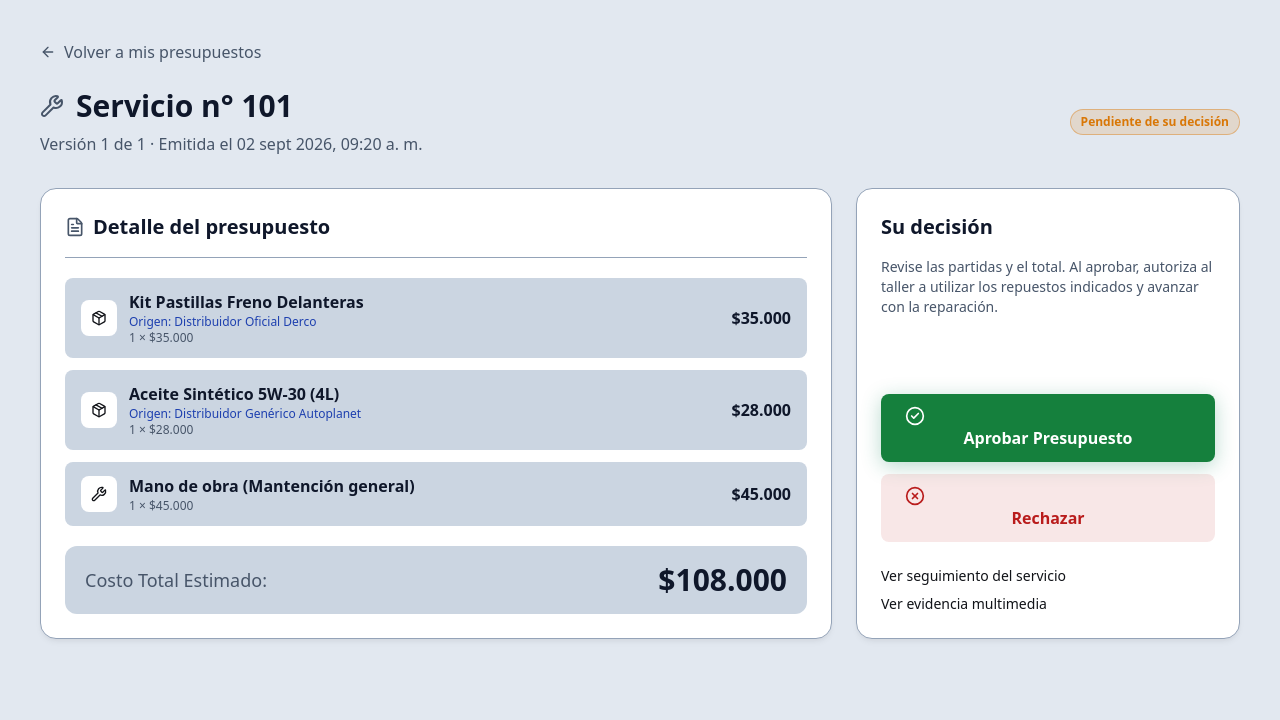
Test case: ClientBudgetDetailPage: aprobación y rechazo del presupuesto › un conflicto de versión (409) refresca y avisa en vez de aplicar una decisión obsoleta
Click the button "Aprobar Presupuesto" at (1048, 428), box top-left (881, 394), bottom-right (1215, 462)
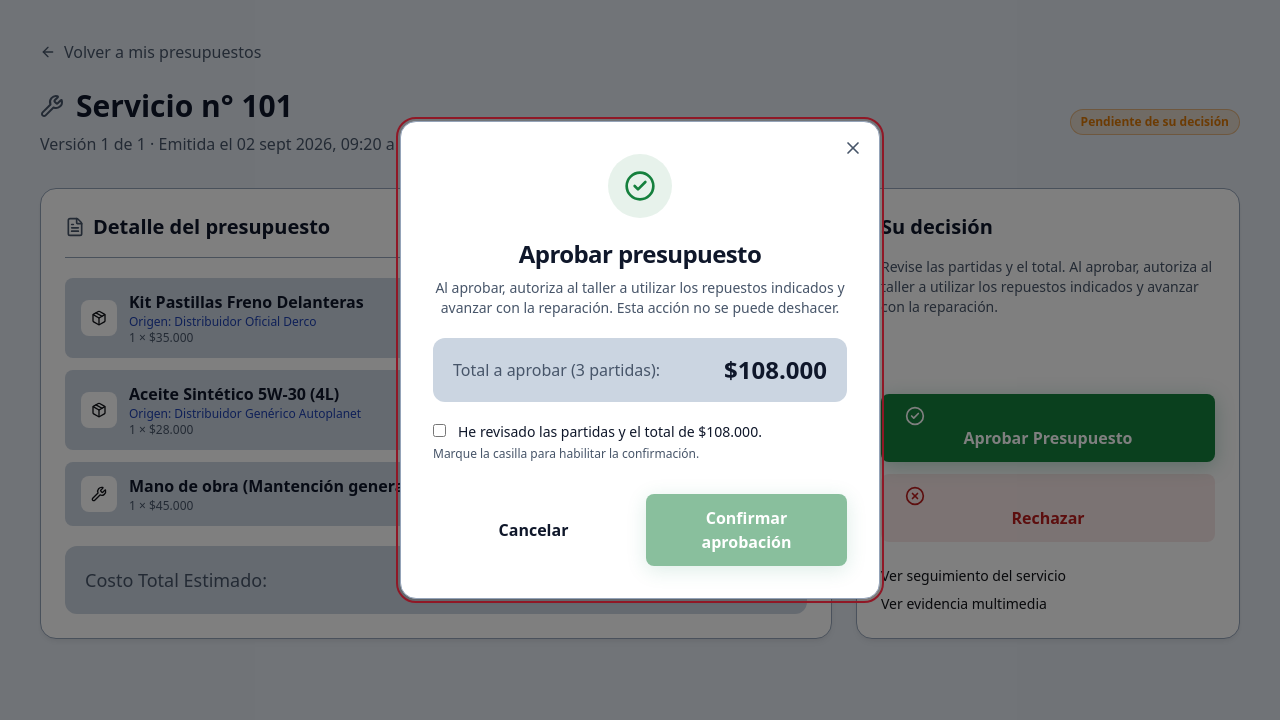
Click the checkbox labelled "He revisado las partidas y el total de $108.000." at (440, 430), box top-left (433, 424), bottom-right (446, 437)
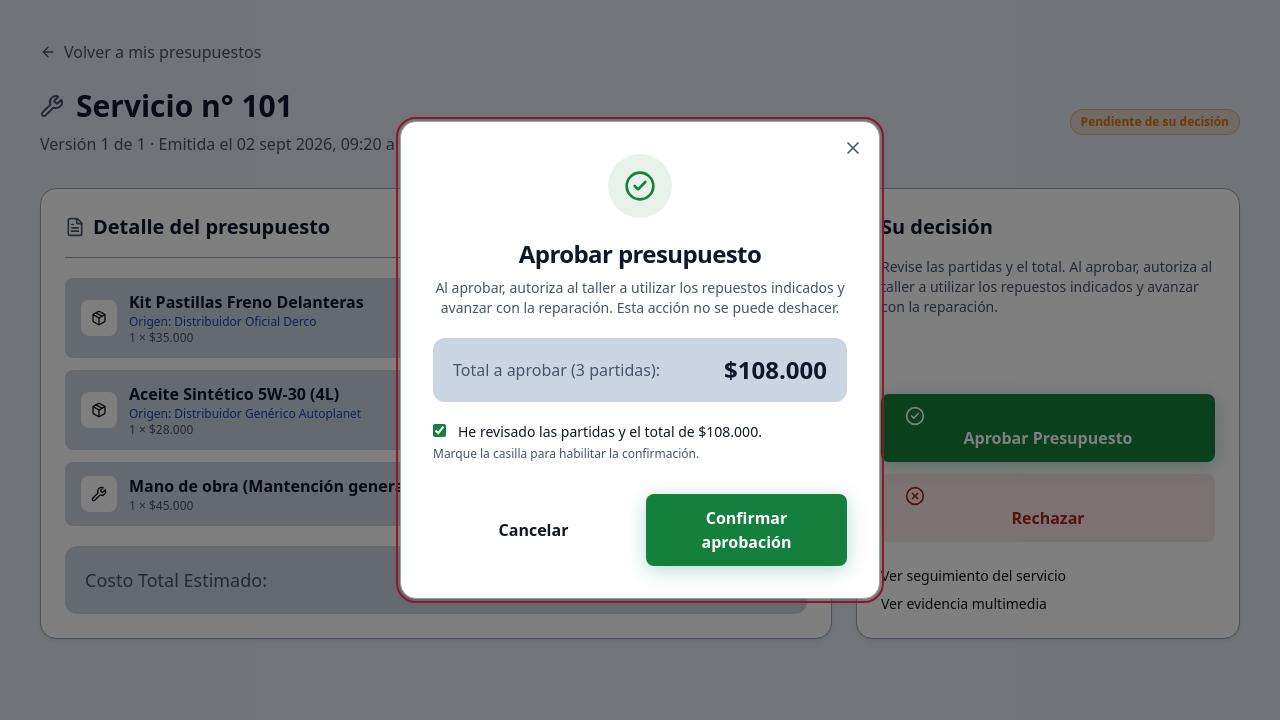
Click the button "Confirmar aprobación" at (746, 530), box top-left (646, 494), bottom-right (847, 566)
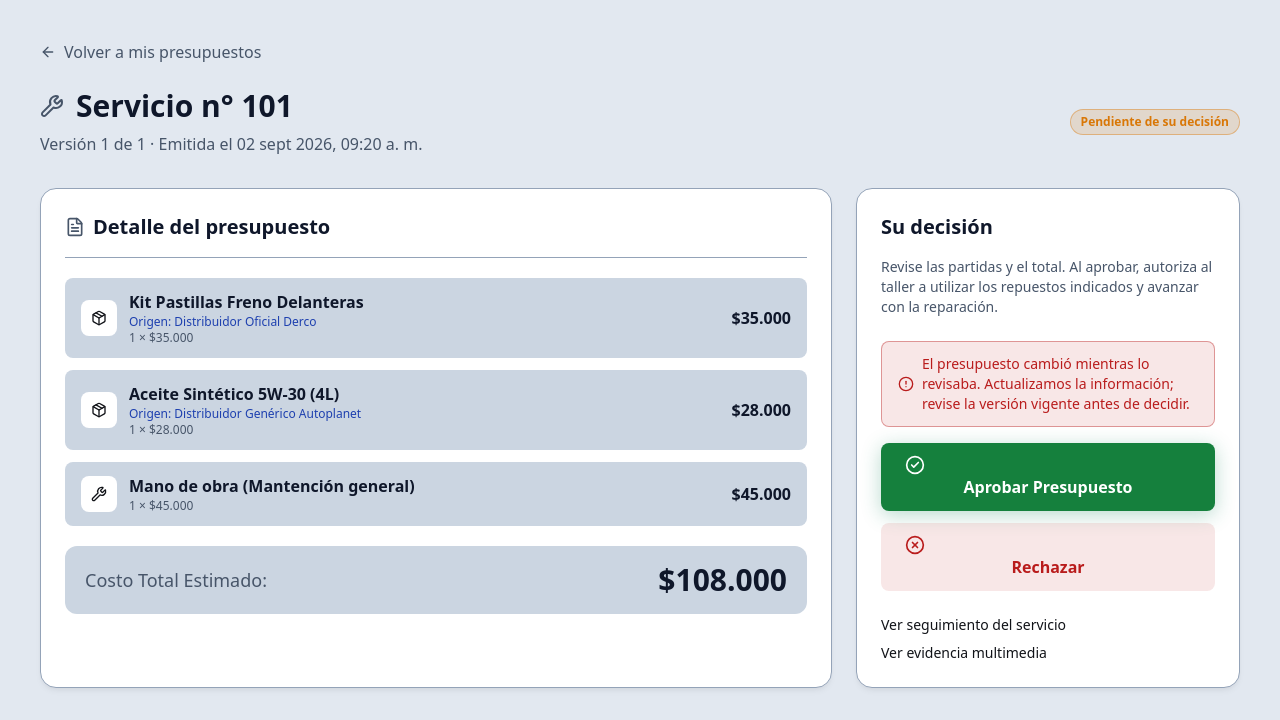
Check: the text "El presupuesto cambió mientras lo revisaba" is shown, box top-left (922, 354), bottom-right (1190, 413)
Check: the dialog is gone
